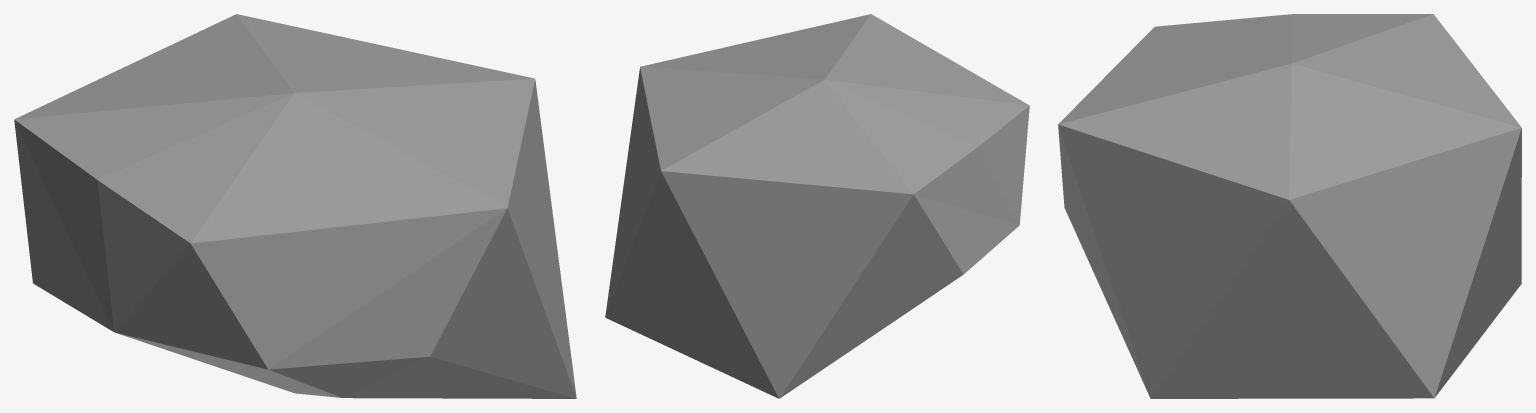
File: rock_01.glb
3 views of the same model, side by side, from view 1: azimuth 30°, elevation 25°; view 2: azimuth 150°, elevation 25°; view 3: azimuth 270°, elevation 25° (orthographic). The views are drawn at different scales.
Visible parts, largest first — view 1: Rock_01; view 2: Rock_01; view 3: Rock_01.
Part boxes in pixels (left/top/right/bottom): Rock_01: left=14, top=14, right=576, bottom=398; Rock_01: left=605, top=14, right=1029, bottom=398; Rock_01: left=1058, top=14, right=1521, bottom=398.
Bounding box in the file's own units: 0.8556 × 0.5346 × 0.8734.
1 material, 1 textured.
